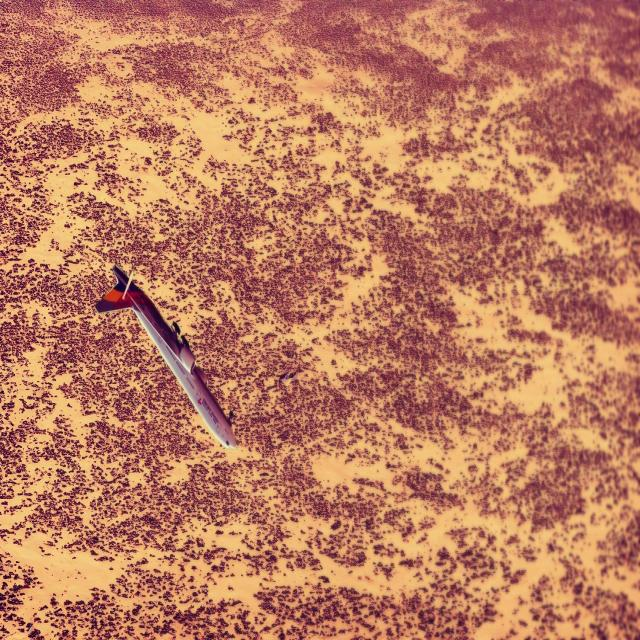airplane: (95, 264, 238, 451)
